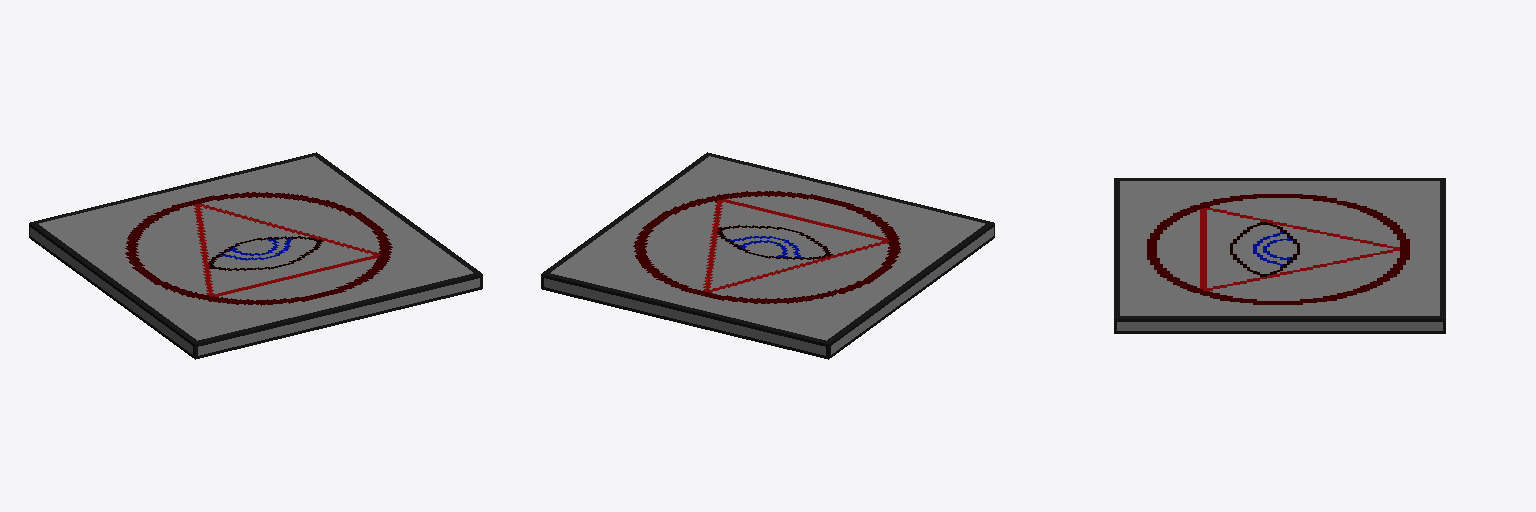
3 views of the same model, side by side, from view 1: azimuth 30°, elevation 25°; view 2: azimuth 150°, elevation 25°; view 3: azimuth 270°, elevation 25° (orthographic).
Parts seen in each view (by area): view 1: object 1; view 2: object 1; view 3: object 1.
Boxes of the visible parts, box(x1,y1,x2,y2) form: object 1: box(29, 152, 482, 359); object 1: box(541, 152, 994, 359); object 1: box(1114, 178, 1445, 333).
Bounding box in the file's own units: 10 × 0.5 × 10.
Materials: 1 (1 with a texture image).